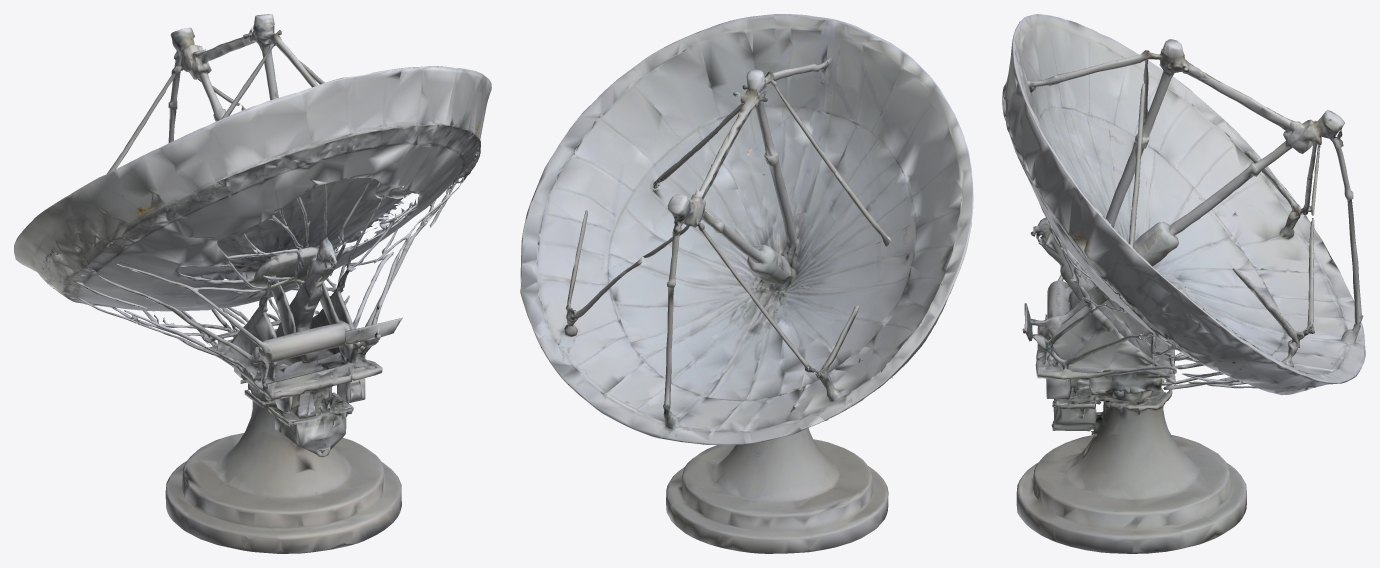
File: sat_dish.glb
3 views of the same model, side by side, from view 1: azimuth 30°, elevation 25°; view 2: azimuth 150°, elevation 25°; view 3: azimuth 270°, elevation 25° (orthographic). The views are drawn at different scales.
Parts seen in each view (by area): view 1: sat_dish; view 2: sat_dish; view 3: sat_dish.
Boxes of the visible parts, box(x1,y1,x2,y2) form: sat_dish: box(14, 14, 491, 553); sat_dish: box(520, 14, 973, 553); sat_dish: box(1002, 14, 1365, 553).
Bounding box in the file's own units: 1.93 × 1.99 × 1.41.
1 material, 1 textured.
